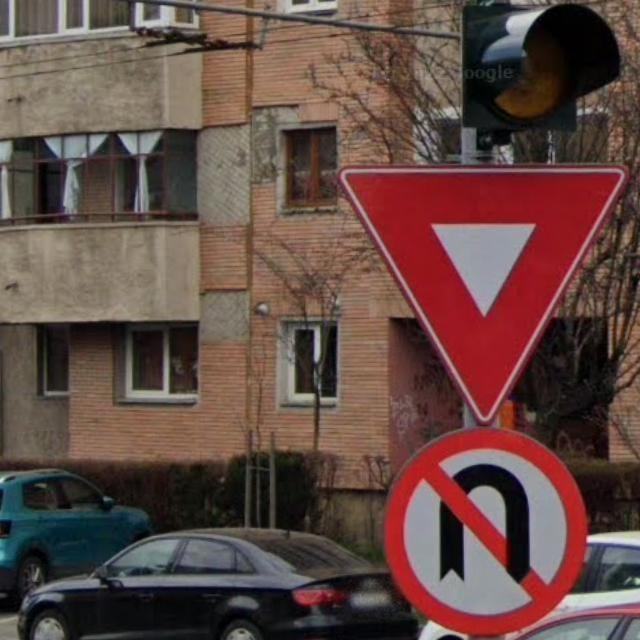prio_give_way: (336, 162, 622, 425)
